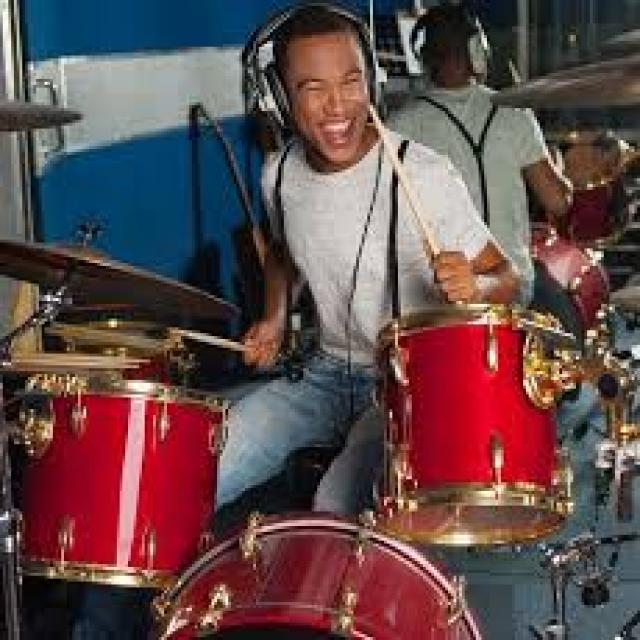Ear-protection: (242, 58, 292, 125), (362, 58, 389, 111), (462, 26, 490, 73), (412, 38, 428, 73)
person: (166, 0, 523, 562)
